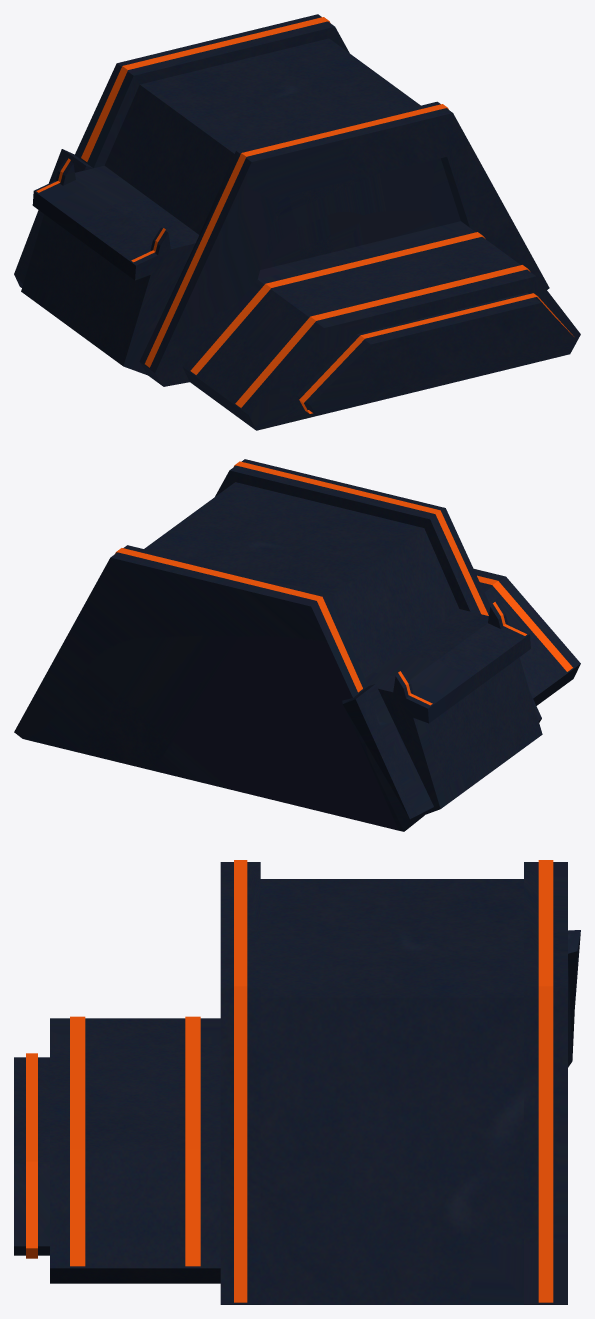
The model's file is Pink Factory.fbx.
The picture shows the model from 3 angles, top to bottom: view 1: azimuth 30°, elevation 25°; view 2: azimuth 150°, elevation 25°; view 3: azimuth 270°, elevation 25°; orthographic projection. The views are drawn at different scales.
Visible parts, largest first — view 1: Pink Factory, Neon8; view 2: Pink Factory, Neon8; view 3: Pink Factory, Neon8.
Boxes of the visible parts, <box> form: Pink Factory: <box>14,14,580,430</box>; Neon8: <box>36,17,573,413</box>; Pink Factory: <box>14,459,580,831</box>; Neon8: <box>115,461,572,705</box>; Pink Factory: <box>14,862,580,1304</box>; Neon8: <box>26,860,553,1302</box>.
Size of the model in its own units: 52.39 by 25.16 by 48.71.
